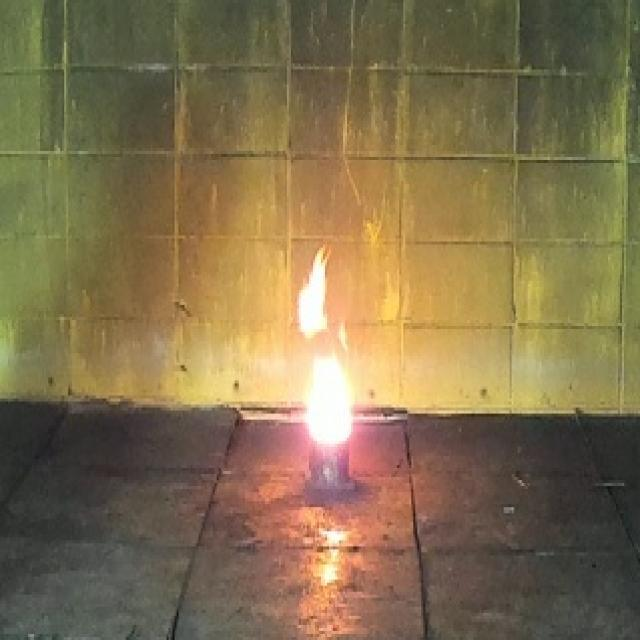Fire: (297, 244, 353, 446)
